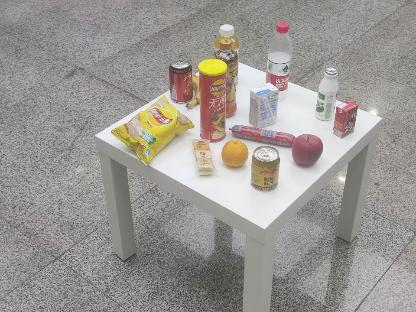Can: (252, 144, 280, 192), (170, 60, 192, 102)
Others: (196, 57, 228, 140), (245, 79, 280, 129), (329, 98, 361, 138)
Plastic Bottle: (262, 21, 296, 100)
